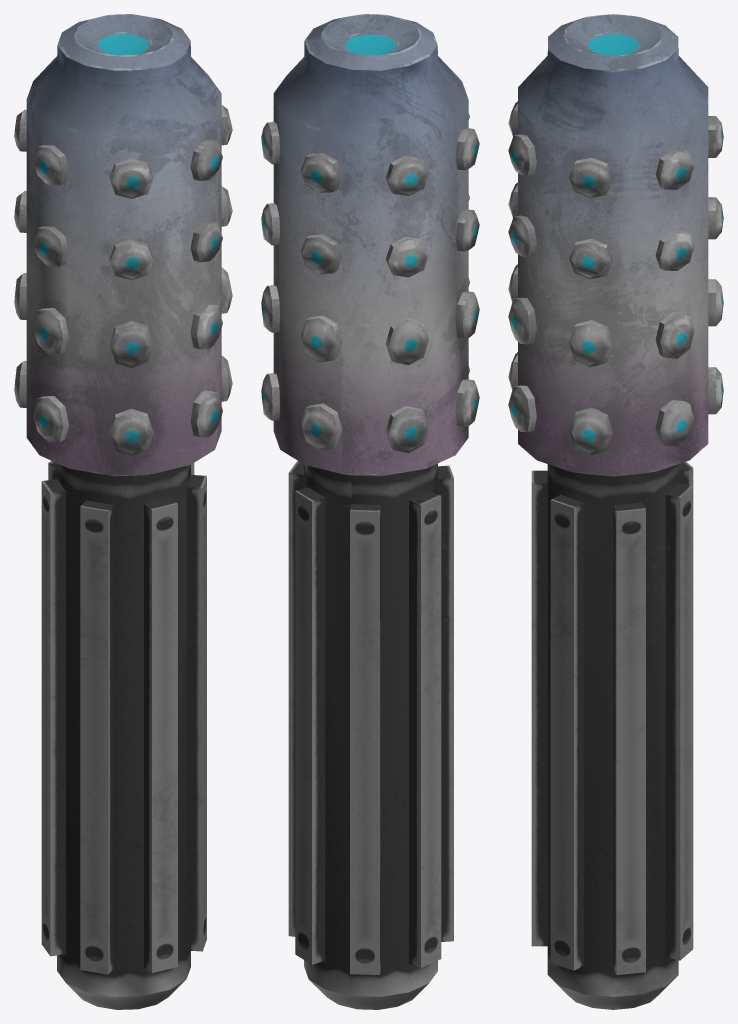
File: ShockBaton_head.fbx
3 renders of one model, left to right at view 1: azimuth 30°, elevation 25°; view 2: azimuth 150°, elevation 25°; view 3: azimuth 270°, elevation 25°, orthographic.
Parts seen in each view (by area): view 1: ShockBaton_head; view 2: ShockBaton_head; view 3: ShockBaton_head.
Boxes of the visible parts, x1,y1,x2,y2 form: ShockBaton_head: [14, 14, 232, 1009]; ShockBaton_head: [261, 14, 479, 1009]; ShockBaton_head: [508, 14, 723, 1009].
Bounding box in the file's own units: 5.02 × 24.16 × 4.94.
1 material, 1 textured.
